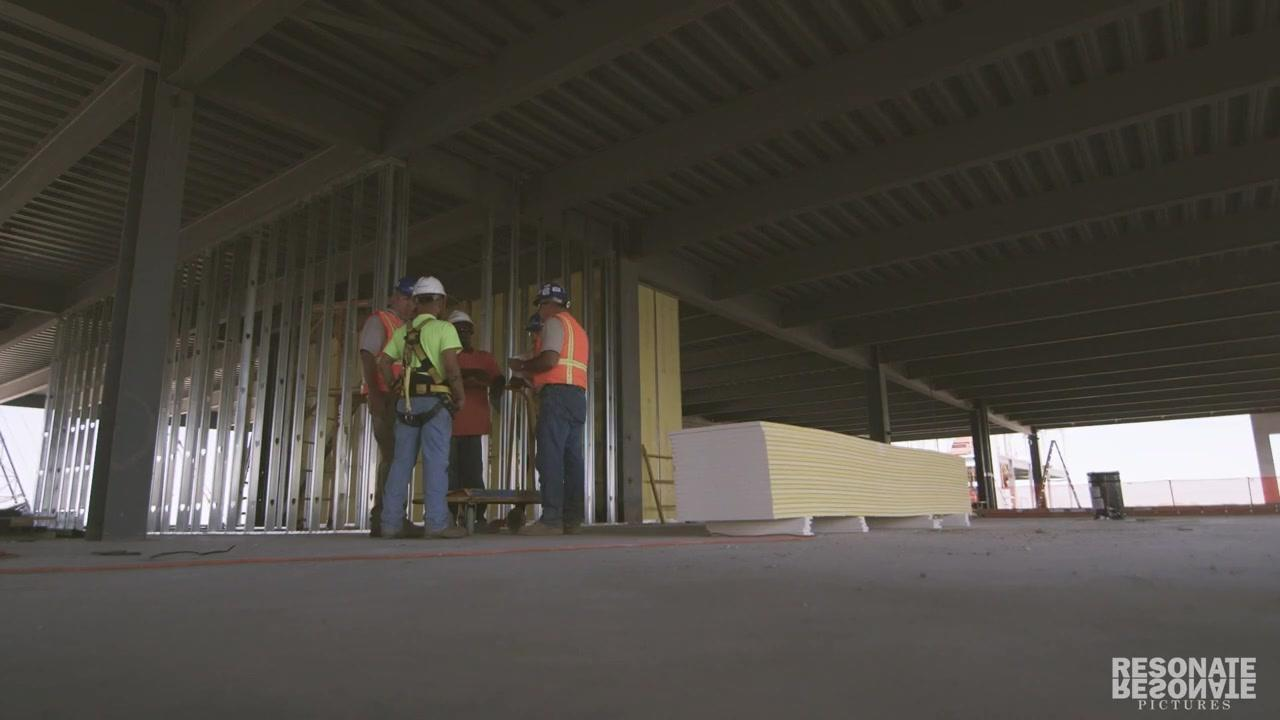vest: (532, 309, 588, 391), (363, 308, 402, 398)
